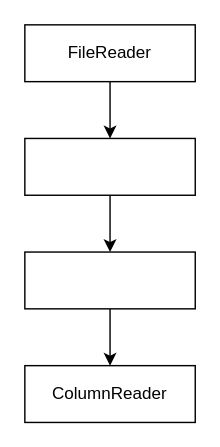
This 220x447 diagram has some shape labels left out. The shapes that lost their labels are listed below. From the top down, each one's centre as x and y in pixels, then its label:
At (x=109, y=166): "RowGroupReader".
At (x=109, y=280): "PageReader".
